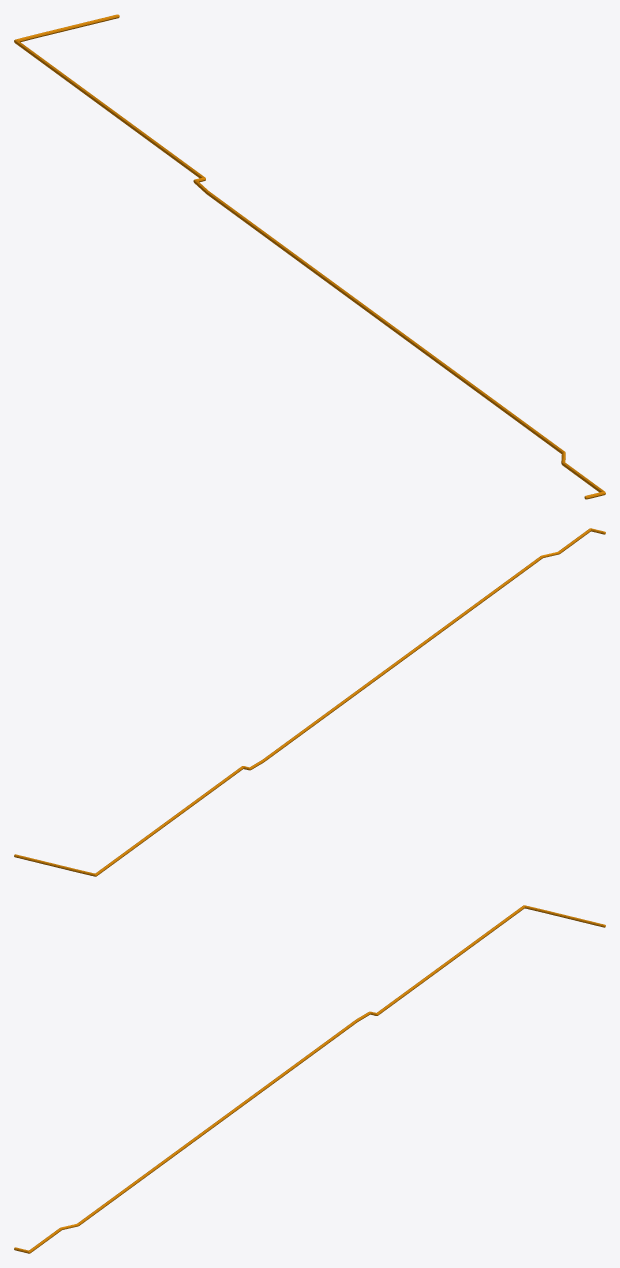
The picture shows the model from 3 angles, top to bottom: view 1: azimuth 30°, elevation 25°; view 2: azimuth 150°, elevation 25°; view 3: azimuth 330°, elevation 25°; orthographic projection. The views are drawn at different scales.
Bounding box in the file's own units: 824 × 20 × 6018.
